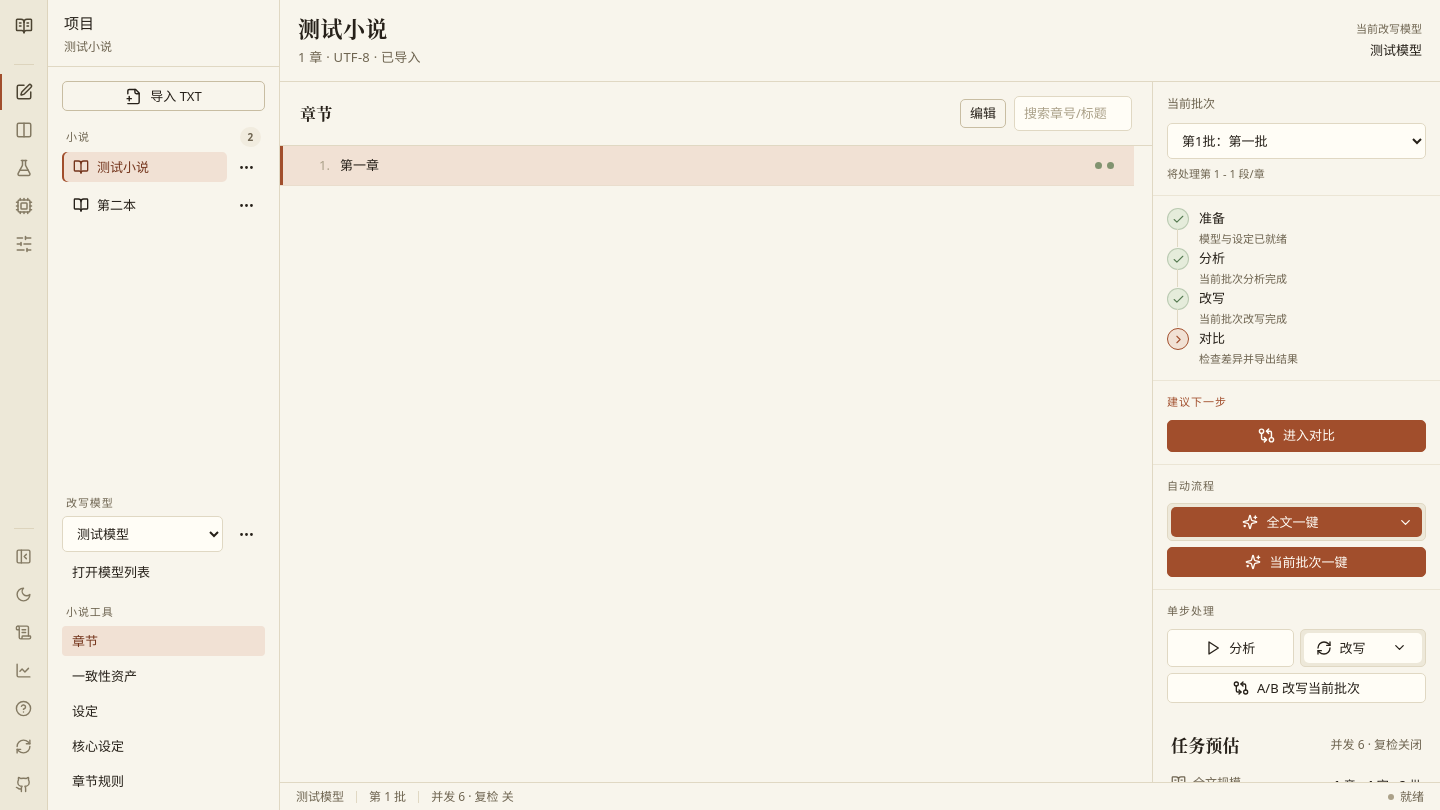
Test: App feature behavior › renders prominent descriptive application setting tabs
Check: the heading "测试小说" is shown, box [298, 12, 388, 43]
Click the button named "设置" at (24, 244), box [6, 226, 42, 262]
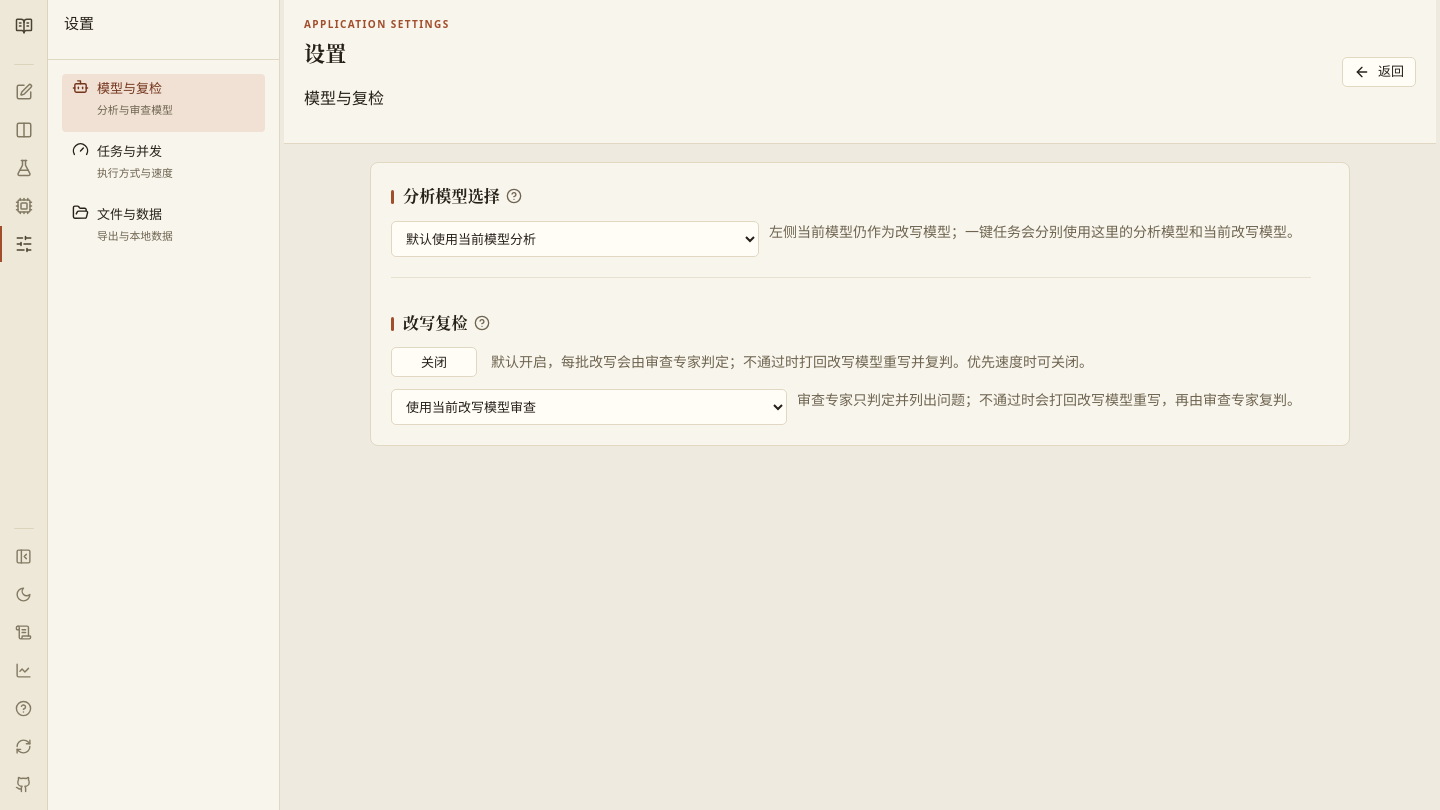
Check: the text "分析与审查模型" is shown, box [97, 101, 173, 118]
Check: the text "执行方式与速度" is shown, box [97, 164, 173, 181]
Check: the text "导出与本地数据" is shown, box [97, 227, 173, 244]
